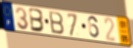2: (104, 17, 117, 43)
3: (14, 6, 30, 31)
6: (87, 15, 101, 40)
7: (67, 13, 78, 37)
B: (28, 7, 46, 33), (48, 10, 65, 36)
